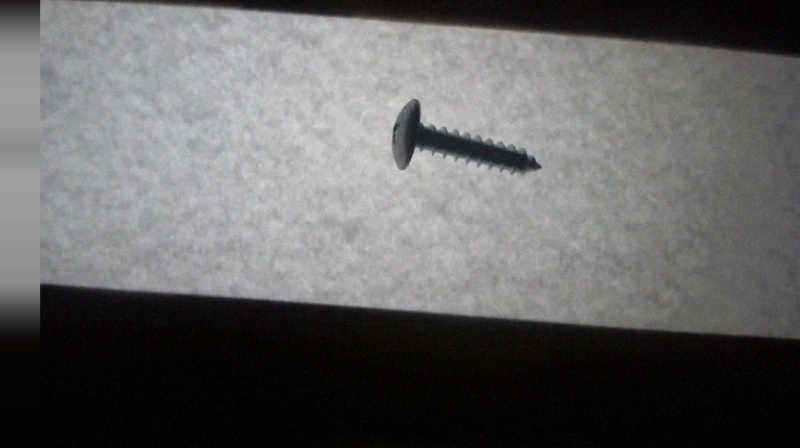S003: (387, 95, 544, 180)
